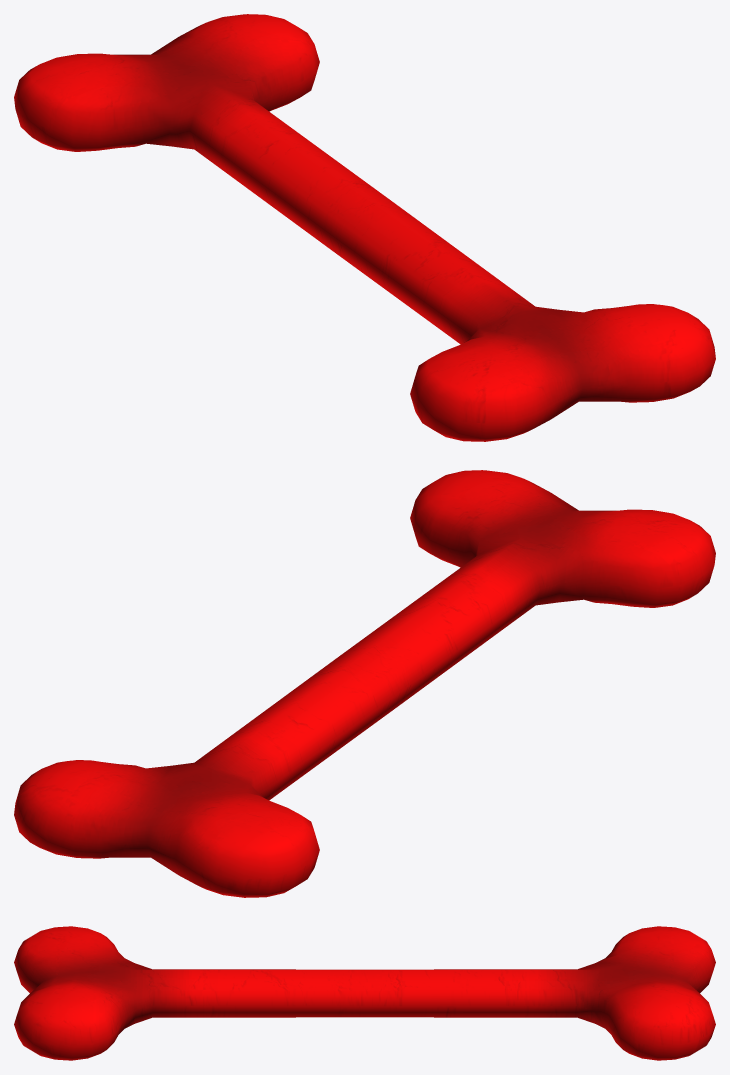
The model's file is M_BoneB.glb.
3 views of the same model, one above another, from view 1: azimuth 30°, elevation 25°; view 2: azimuth 150°, elevation 25°; view 3: azimuth 270°, elevation 25° (orthographic). The views are drawn at different scales.
Visible parts, largest first — view 1: SM_Bone; view 2: SM_Bone; view 3: SM_Bone.
Boxes of the visible parts, x1=… form: SM_Bone: x1=14, y1=14, x2=715, y2=441; SM_Bone: x1=14, y1=470, x2=715, y2=897; SM_Bone: x1=14, y1=926, x2=715, y2=1060.
Bounding box in the file's own units: 0.2791 × 0.0705 × 0.7938.
1 material, 1 textured.
